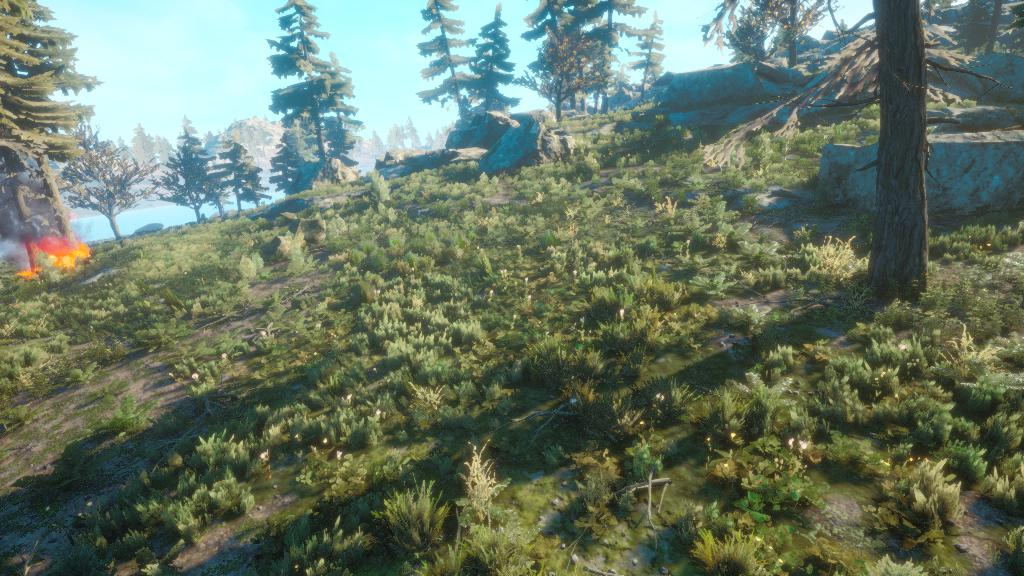Fire: (9, 226, 94, 285)
